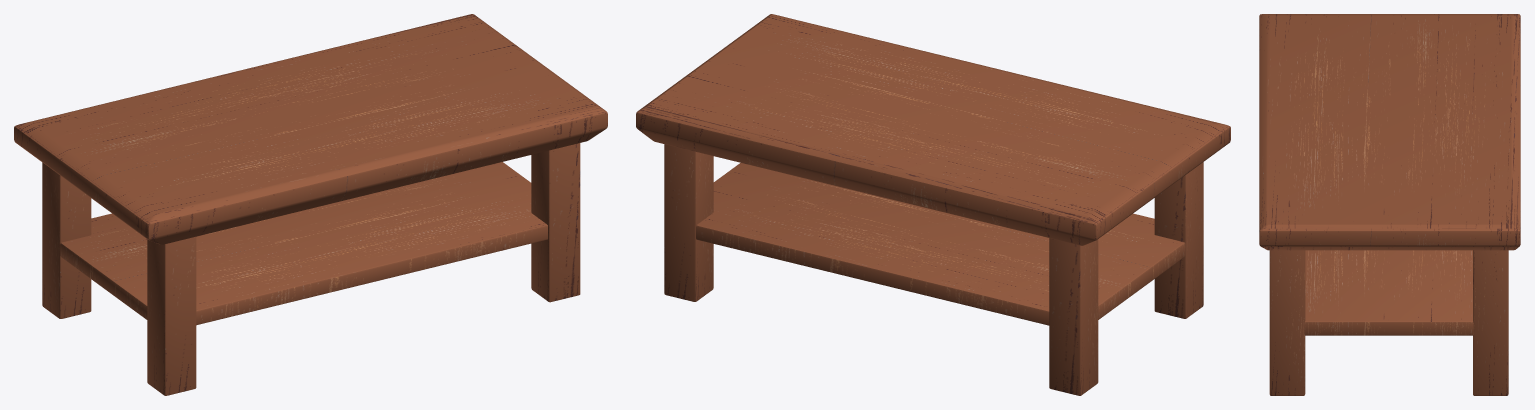
File: Coffee_Table.fbx
The picture shows the model from 3 angles, left to right: view 1: azimuth 30°, elevation 25°; view 2: azimuth 150°, elevation 25°; view 3: azimuth 270°, elevation 25°; orthographic projection. The views are drawn at different scales.
Visible parts, largest first — view 1: Box001; view 2: Box001; view 3: Box001.
Boxes of the visible parts, x1,y1,x2,y2 form: Box001: (14, 14, 607, 395); Box001: (636, 14, 1230, 395); Box001: (1259, 14, 1520, 395).
Size of the model in its own units: 72.2 by 27.8 by 36.67.
1 material, 1 textured.
